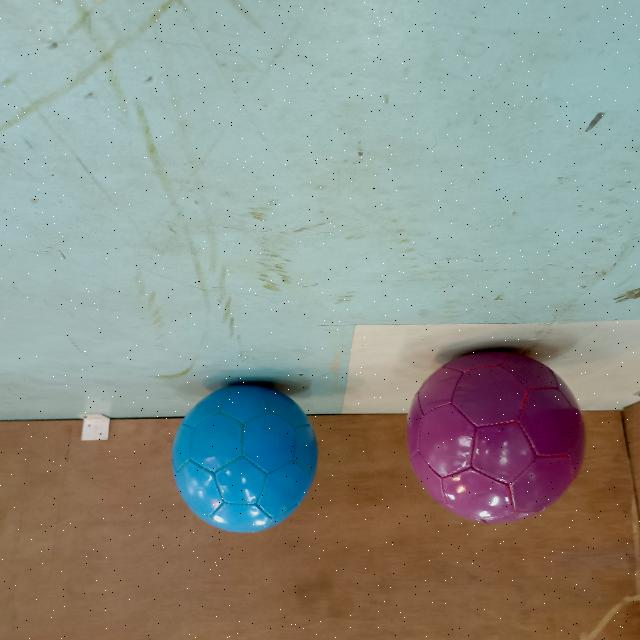B: (170, 380, 320, 536)
P: (402, 346, 590, 528)
